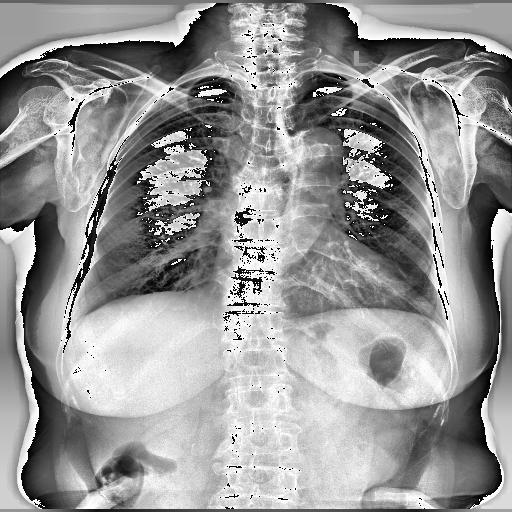0- Aortic enlargement: (280, 129, 350, 197), (274, 126, 344, 186), (288, 126, 342, 171)
3- Cardiomegaly: (212, 246, 414, 310), (207, 259, 421, 317), (205, 258, 410, 310)
